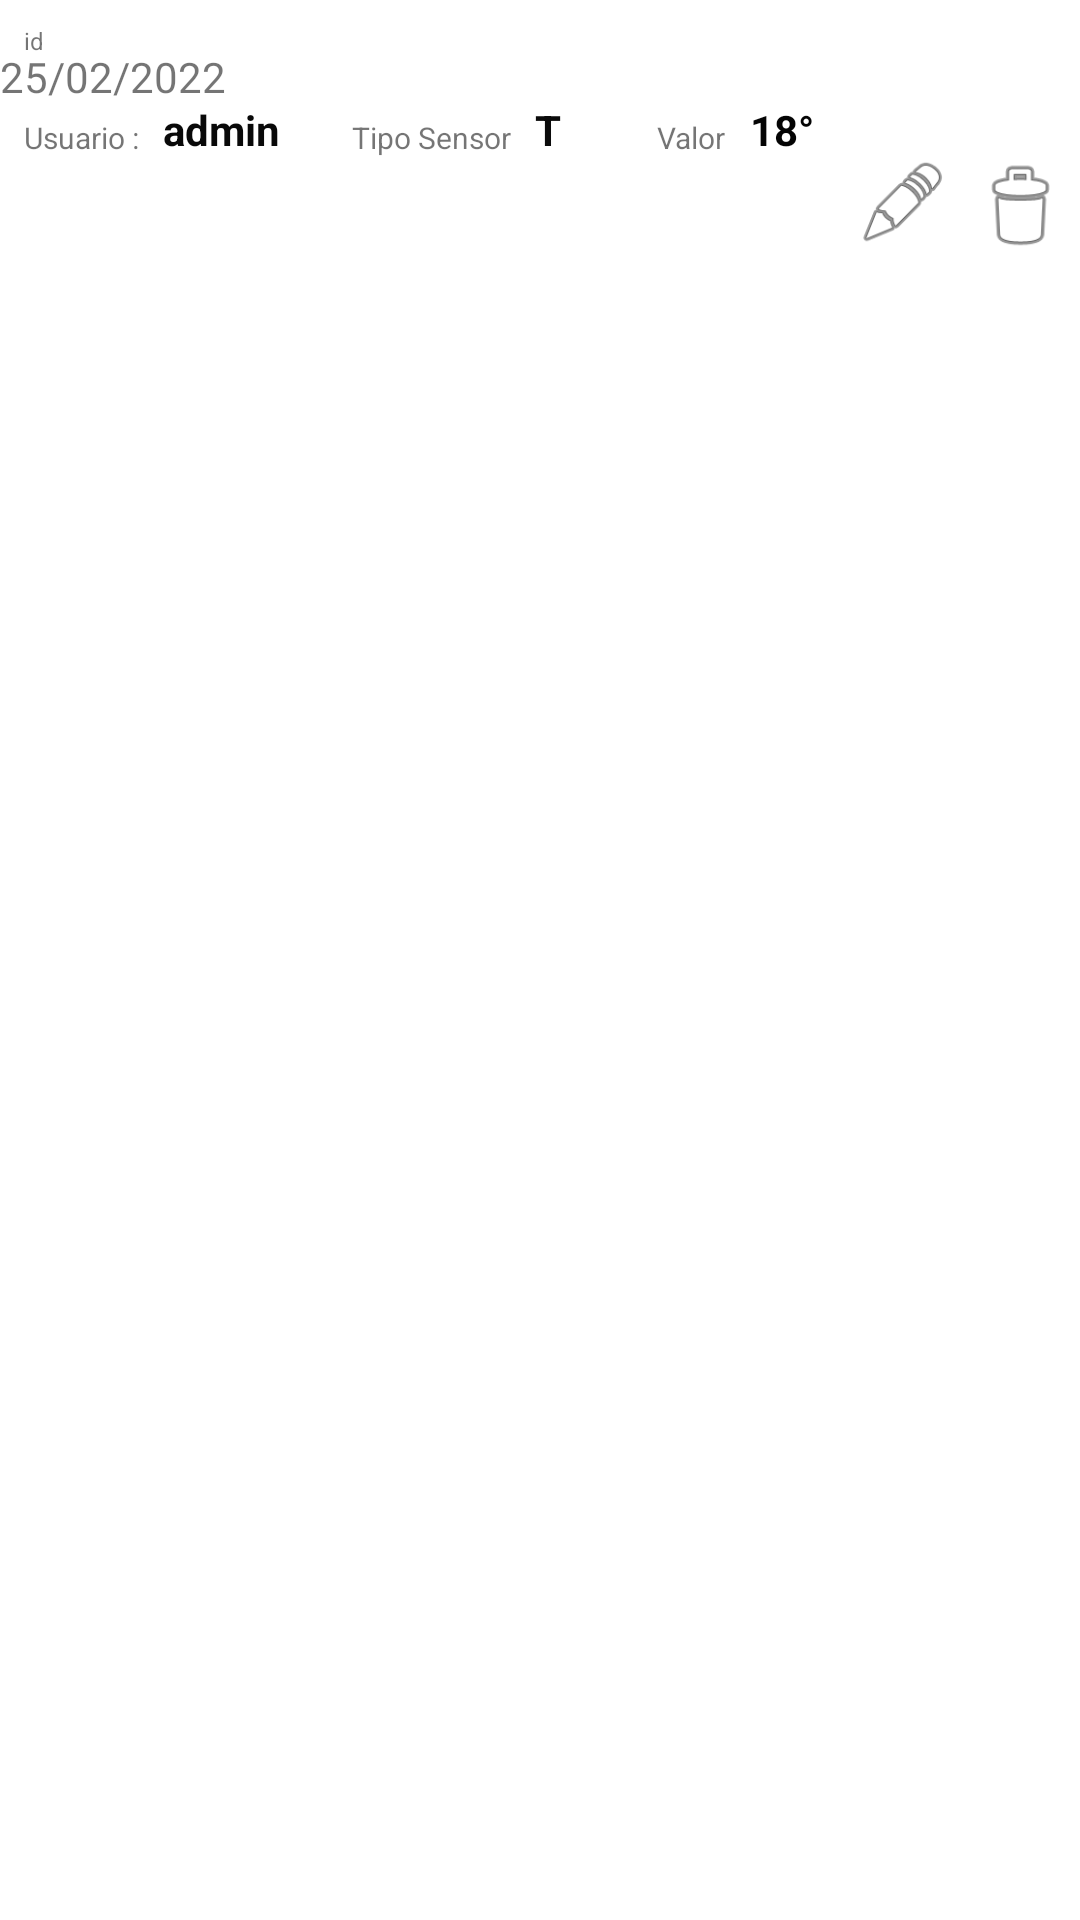

Screen size 1080w x 1920h. Icon name, then its box in pixels as (x1, y1, x2, y2):
delete: (992, 165, 1050, 245)
edit: (863, 162, 942, 241)
